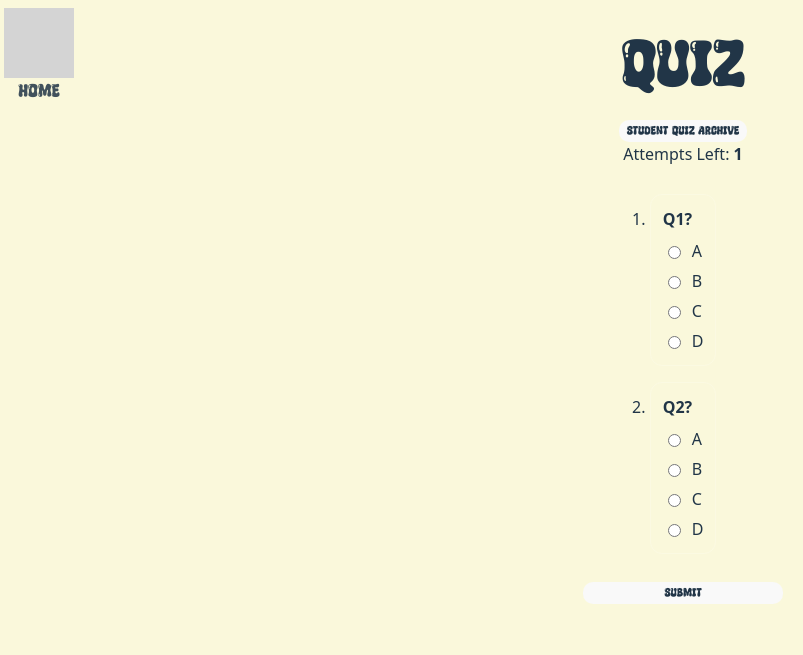
Test case: Quiz page › displays error message when not all questions answered
Click the button "Submit" at (683, 593), box [583,582,783,604]
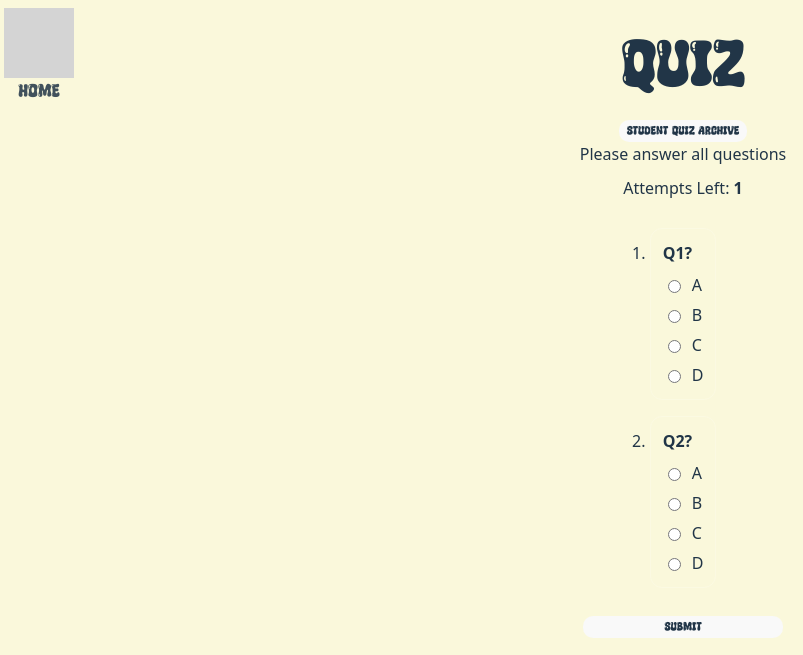
Expected: the text "Please answer all questions" is shown, [580,142,786,166]
